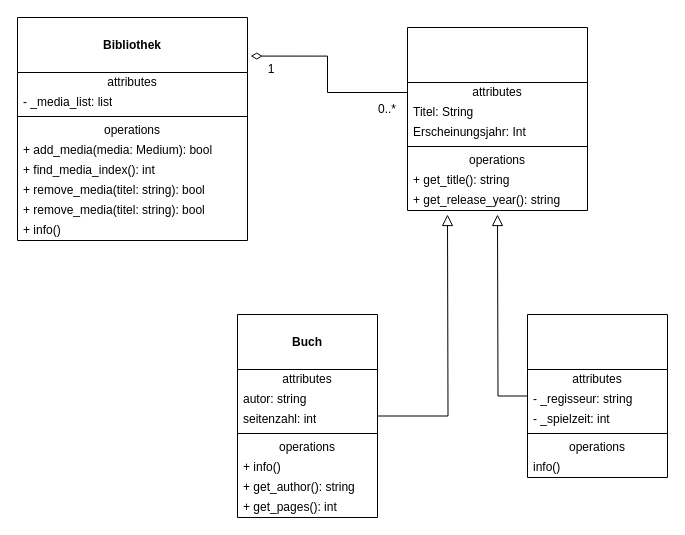
Some shapes in this 685 by 535 pixel diagram are drawn without their labels. Here are the shapes that lost their labels. From the top down, the box of each, then its label:
(406, 26, 588, 210): Medium {abstract}
(526, 314, 668, 478): Dvd
